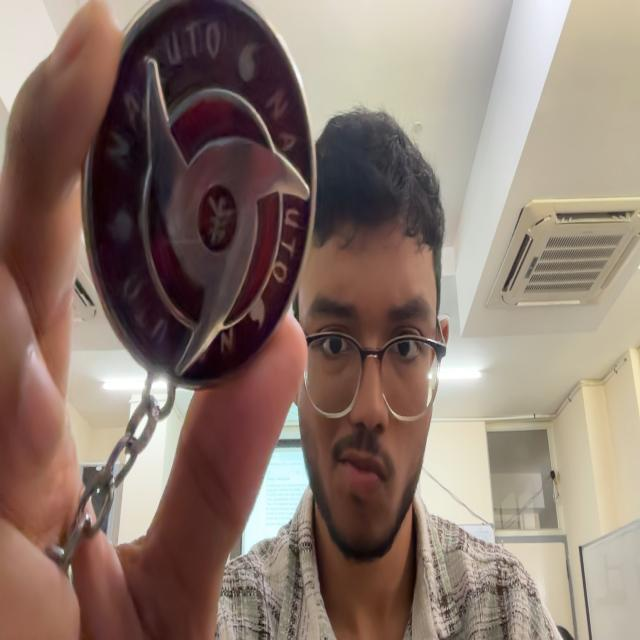dangerous: (69, 0, 316, 552)
